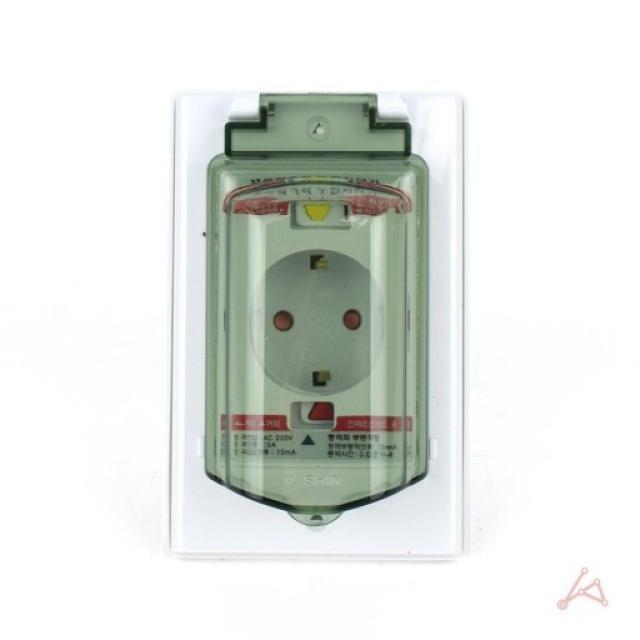typeb: (130, 45, 513, 630)
